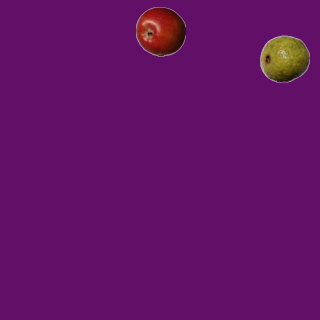Apple Braeburn: (135, 6, 185, 56)
Guava: (259, 33, 309, 83)
